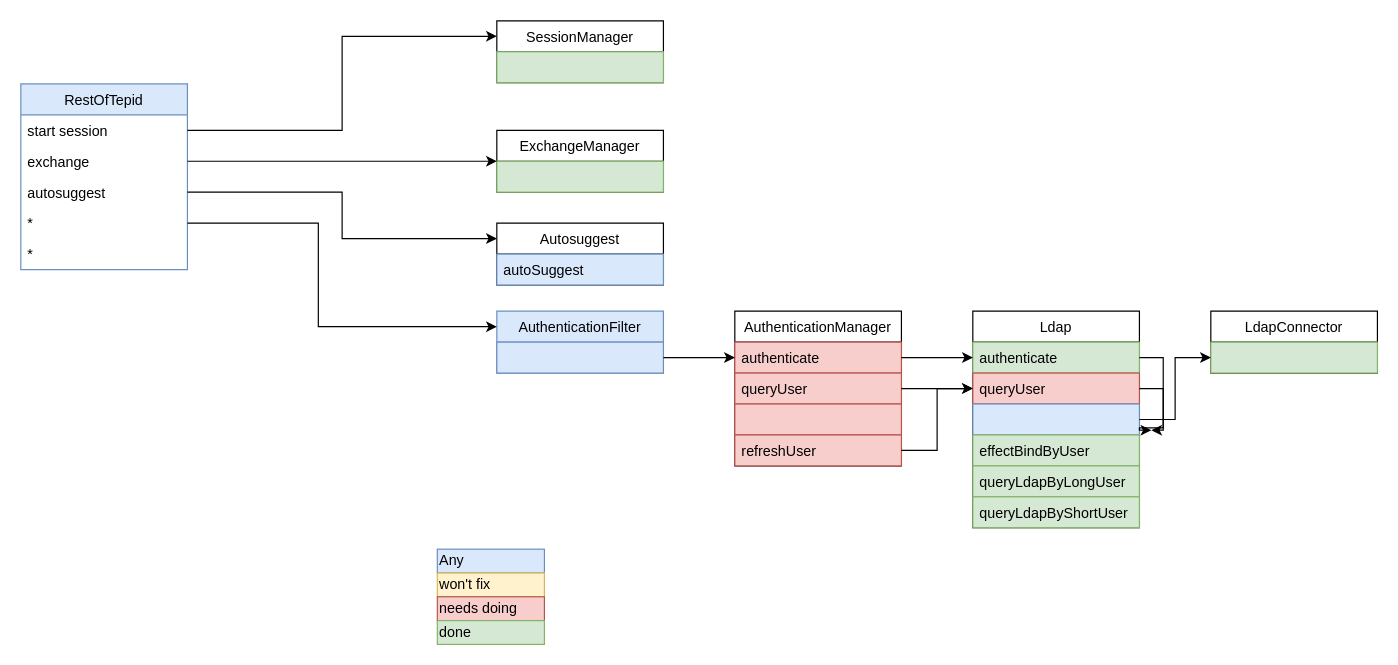
The diagram is 1398 pixels wide and 665 high, and some of its shapes have lost their labels. The shapes that lost their labels are listed below. From the top down, each one's centre as x and y in pixels, then its label:
(579,67): start
(579,176): setExchangeStudent
(579,357): filter
(1293,357): bindLdap
(817,419): queryUserDb
(1055,419): queryLdap
